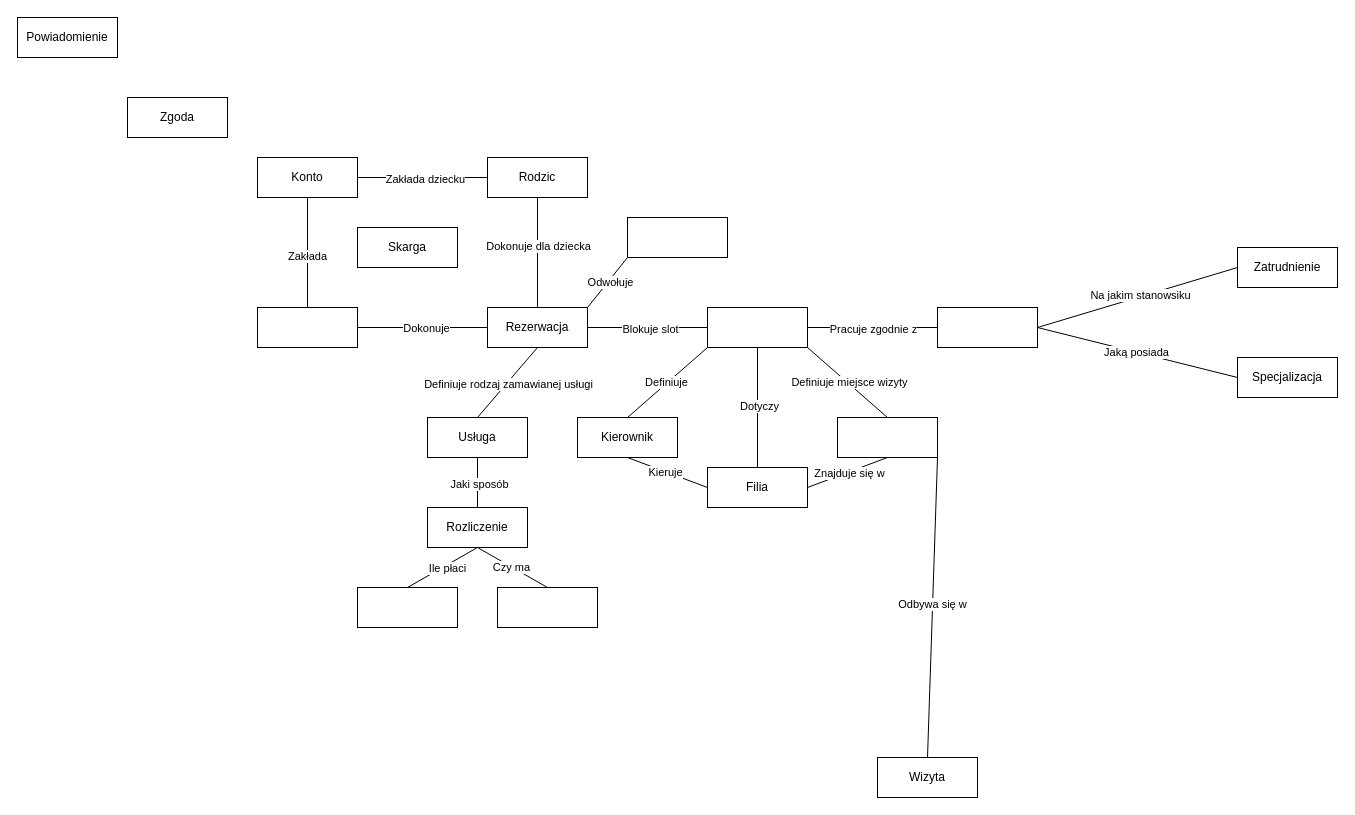
Some shapes in this 1355 by 815 pixel diagram are drawn without their labels. Each missing label, with the centre of its shape:
Cennik: (407,607)
Gabinet: (887,437)
Grafik: (757,327)
Odwołanie: (677,237)
Pacjent: (307,327)
Pracownik: (987,327)
Skierowanie: (547,607)
